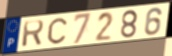2: (93, 11, 115, 42)
6: (143, 6, 164, 36)
7: (72, 11, 93, 46)
8: (120, 8, 139, 39)
C: (46, 17, 68, 46)
R: (21, 19, 45, 49)
